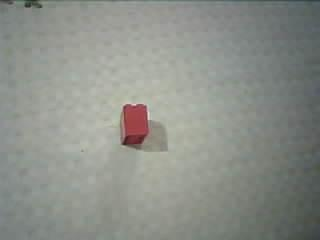lego: (118, 103, 151, 145)
